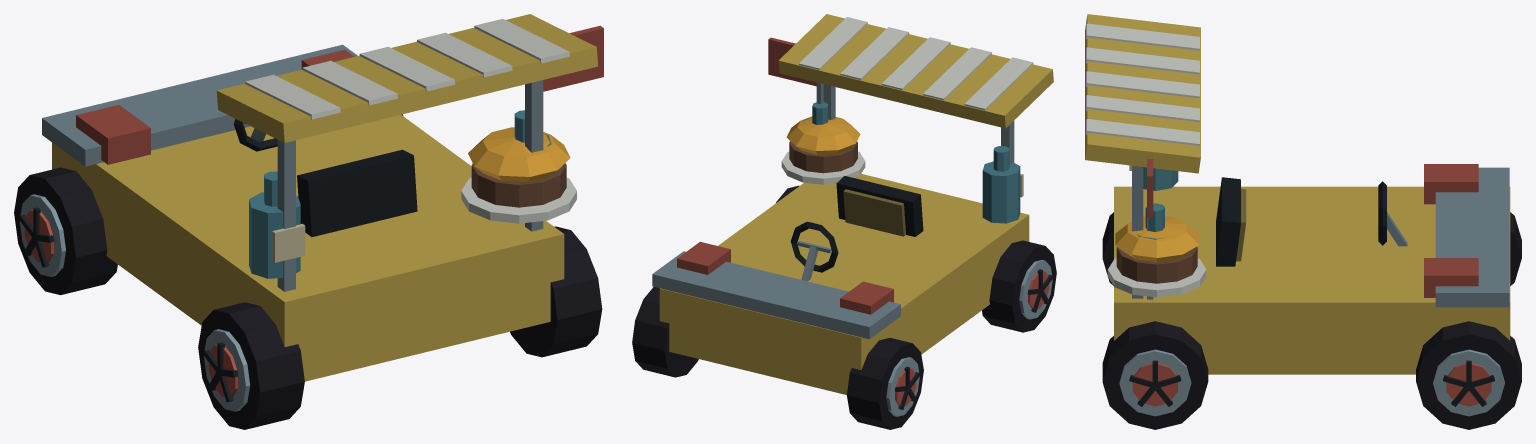
Rendered from kart.glb.
3 views of the same model, side by side, from view 1: azimuth 30°, elevation 25°; view 2: azimuth 150°, elevation 25°; view 3: azimuth 270°, elevation 25° (orthographic). The views are drawn at different scales.
Parts seen in each view (by area): view 1: identity-food-cart-food-cart-counter-and-awning, wheel-rear-left, wheel-front-left, identity-food-cart-motif-food, identity-food-cart-driver-cockpit, wheel-rear-right, identity-food-cart-motif-bottles, identity-food-cart-motif-flag; view 2: identity-food-cart-food-cart-counter-and-awning, wheel-front-left, identity-food-cart-driver-cockpit, wheel-rear-left, identity-food-cart-motif-food, identity-food-cart-motif-bottles, wheel-front-right, identity-food-cart-motif-flag; view 3: identity-food-cart-food-cart-counter-and-awning, wheel-rear-right, wheel-front-right, identity-food-cart-motif-food, identity-food-cart-driver-cockpit, identity-food-cart-motif-bottles, wheel-front-left, wheel-rear-left, identity-food-cart-motif-flag.
Boxes of the visible parts, box(x1,y1,x2,y2) form: identity-food-cart-food-cart-counter-and-awning: box(42, 14, 598, 381); wheel-rear-left: box(198, 302, 304, 429); wheel-front-left: box(14, 167, 117, 295); identity-food-cart-motif-food: box(461, 127, 576, 223); identity-food-cart-driver-cockpit: box(233, 119, 417, 236); wheel-rear-right: box(510, 226, 602, 357); identity-food-cart-motif-bottles: box(249, 110, 551, 278); identity-food-cart-motif-flag: box(543, 25, 603, 91); identity-food-cart-food-cart-counter-and-awning: box(652, 14, 1053, 394); wheel-front-left: box(847, 338, 923, 429); identity-food-cart-driver-cockpit: box(790, 176, 923, 281); wheel-rear-left: box(982, 240, 1056, 332); identity-food-cart-motif-food: box(781, 116, 865, 184); identity-food-cart-motif-bottles: box(802, 102, 1023, 223); wheel-front-right: box(632, 287, 698, 377); identity-food-cart-motif-flag: box(768, 37, 823, 104); identity-food-cart-food-cart-counter-and-awning: box(1085, 14, 1510, 374); wheel-rear-right: box(1102, 321, 1208, 429); wheel-front-right: box(1416, 321, 1521, 429); identity-food-cart-motif-food: box(1107, 216, 1206, 297); identity-food-cart-driver-cockpit: box(1216, 177, 1407, 266); identity-food-cart-motif-bottles: box(1129, 165, 1178, 255); wheel-front-left: box(1510, 212, 1521, 285); wheel-rear-left: box(1102, 212, 1113, 285); identity-food-cart-motif-flag: box(1147, 159, 1153, 299).
Size of the model in its own units: 2.12 by 1.76 by 2.48.
